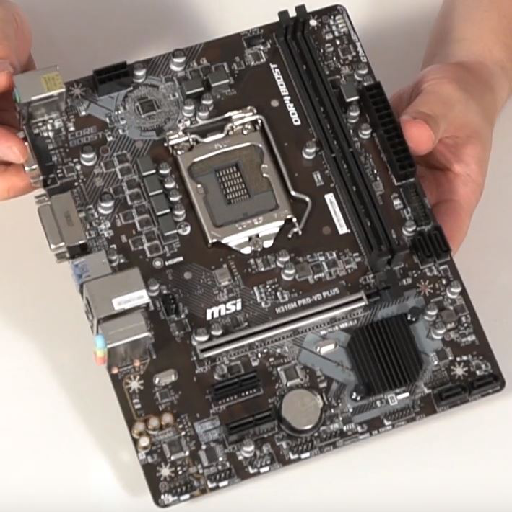CPU: (164, 107, 311, 253)
GPU: (193, 288, 368, 361)
MOTHERBOARD: (14, 5, 510, 505)
RAM: (272, 5, 406, 271)
